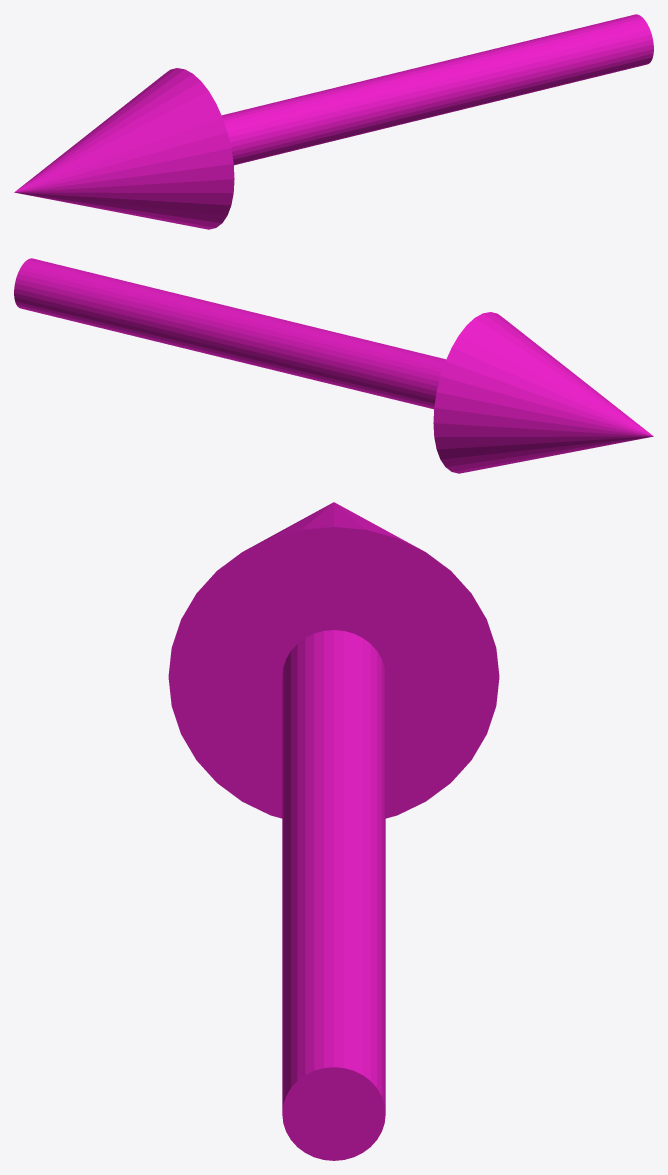
File: arrow.glb
3 views of the same model, one above another, from view 1: azimuth 30°, elevation 25°; view 2: azimuth 150°, elevation 25°; view 3: azimuth 270°, elevation 25° (orthographic). The views are drawn at different scales.
Visible parts, largest first — view 1: Cone; view 2: Cone; view 3: Cone.
Boxes of the visible parts, bbox=[...] form: Cone: bbox=[14, 14, 653, 229]; Cone: bbox=[14, 258, 653, 473]; Cone: bbox=[168, 502, 499, 1160].
Bounding box in the file's own units: 14 × 3.2 × 3.2.
